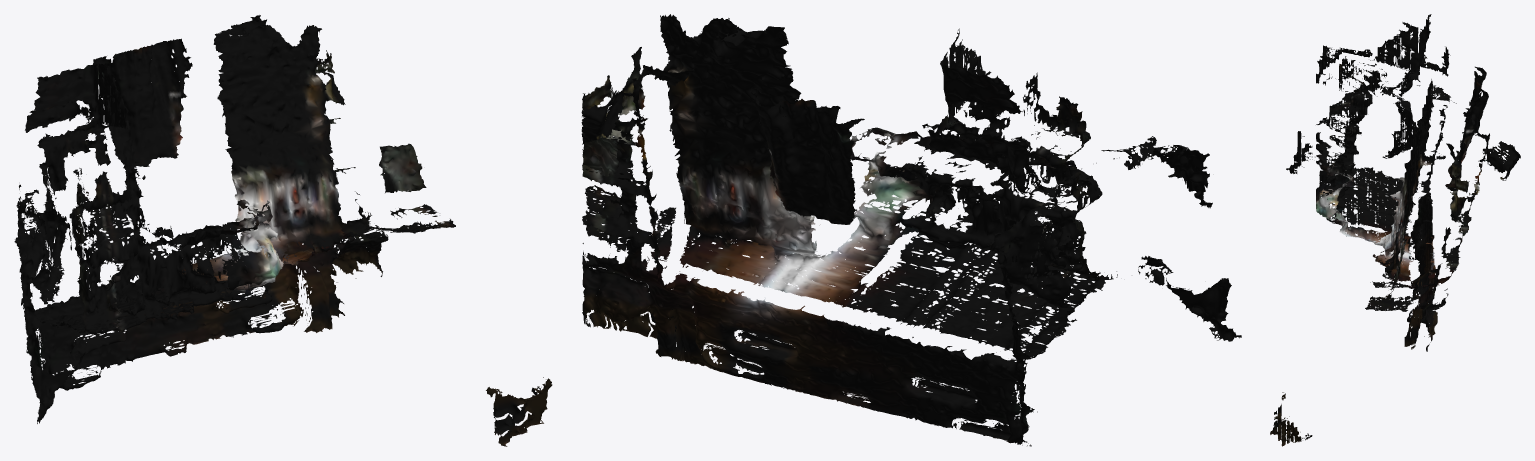
Rendered from color_model_f001_20251226_162827.obj.
3 views of the same model, side by side, from view 1: azimuth 30°, elevation 25°; view 2: azimuth 150°, elevation 25°; view 3: azimuth 270°, elevation 25° (orthographic). The views are drawn at different scales.
Size of the model in its own units: 3.68 by 2.68 by 2.04.
